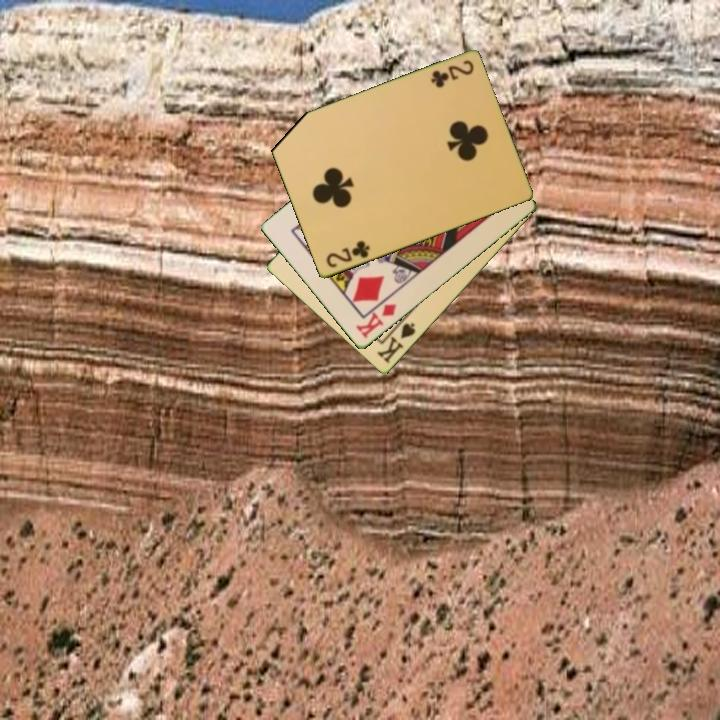2c: (322, 237, 372, 271), (427, 57, 477, 90)
Kd: (352, 301, 400, 342)
Ks: (374, 314, 419, 367)
